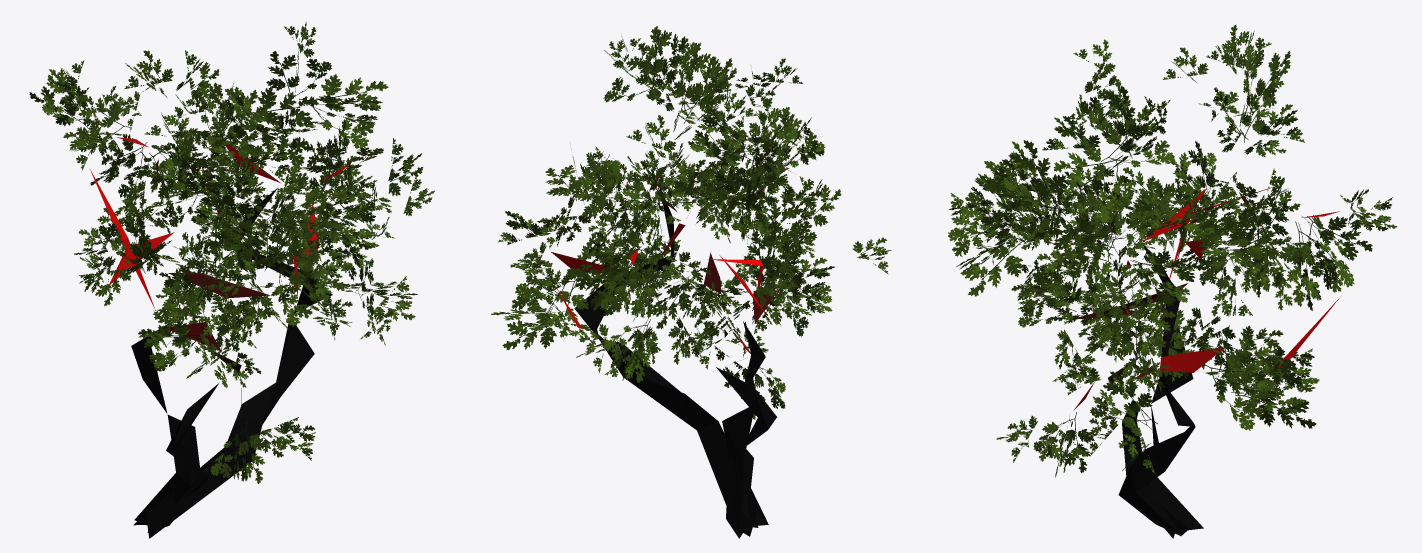
Rendered from oak3 lod4.FBX.
The picture shows the model from 3 angles, left to right: view 1: azimuth 30°, elevation 25°; view 2: azimuth 150°, elevation 25°; view 3: azimuth 270°, elevation 25°; orthographic projection. The views are drawn at different scales.
Parts seen in each view (by area): view 1: oak 3_LOD4; view 2: oak 3_LOD4; view 3: oak 3_LOD4.
Part boxes in pixels (box(x1,y1,x2,y2)): oak 3_LOD4: box(29, 22, 434, 538); oak 3_LOD4: box(491, 26, 891, 538); oak 3_LOD4: box(948, 25, 1397, 538).
Bounding box in the file's own units: 90170 × 124742 × 103929.
